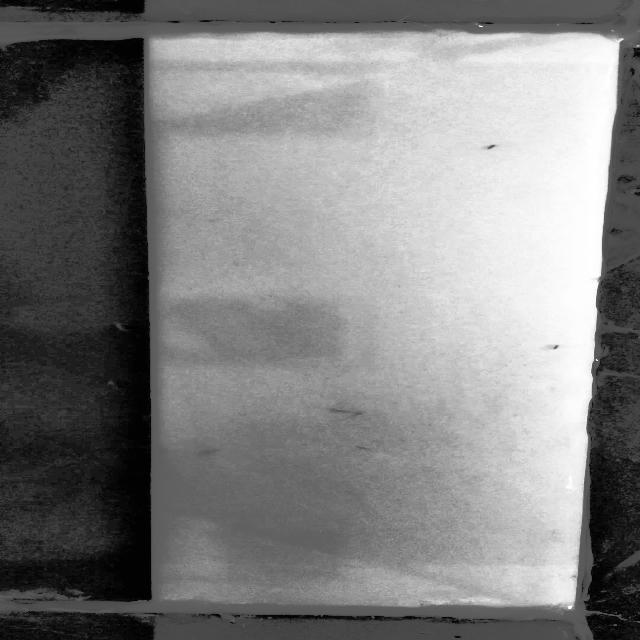shrimp: (473, 131, 512, 160), (542, 339, 576, 360), (324, 403, 356, 415), (344, 407, 373, 420), (195, 447, 224, 458), (352, 442, 372, 454)
